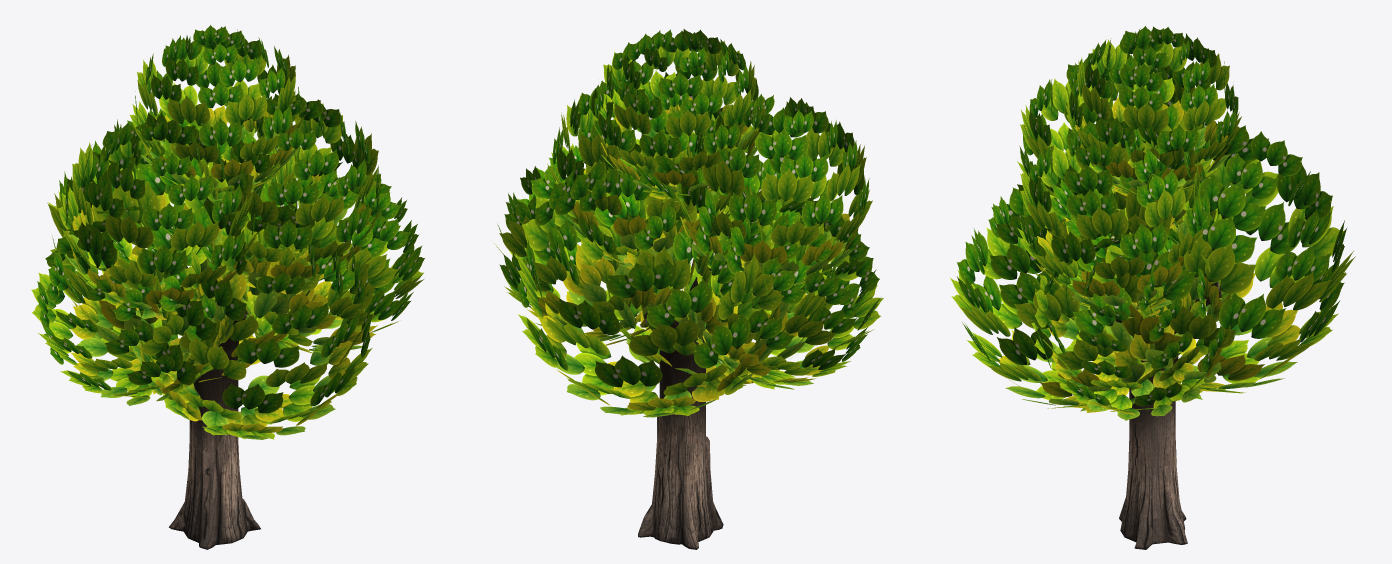
The model's file is Linden.fbx.
3 views of the same model, side by side, from view 1: azimuth 30°, elevation 25°; view 2: azimuth 150°, elevation 25°; view 3: azimuth 270°, elevation 25° (orthographic).
Parts seen in each view (by area): view 1: Leaves, Trunk; view 2: Leaves, Trunk; view 3: Leaves, Trunk.
Part boxes in pixels (box(x1,y1,x2,y2)): Leaves: box(31, 25, 424, 439); Trunk: box(169, 266, 260, 549); Leaves: box(493, 29, 883, 417); Trunk: box(638, 277, 723, 549); Leaves: box(950, 26, 1355, 420); Trunk: box(1115, 281, 1221, 549).
Bounding box in the file's own units: 671 × 814 × 651.
Materials: 2 (2 with a texture image).
